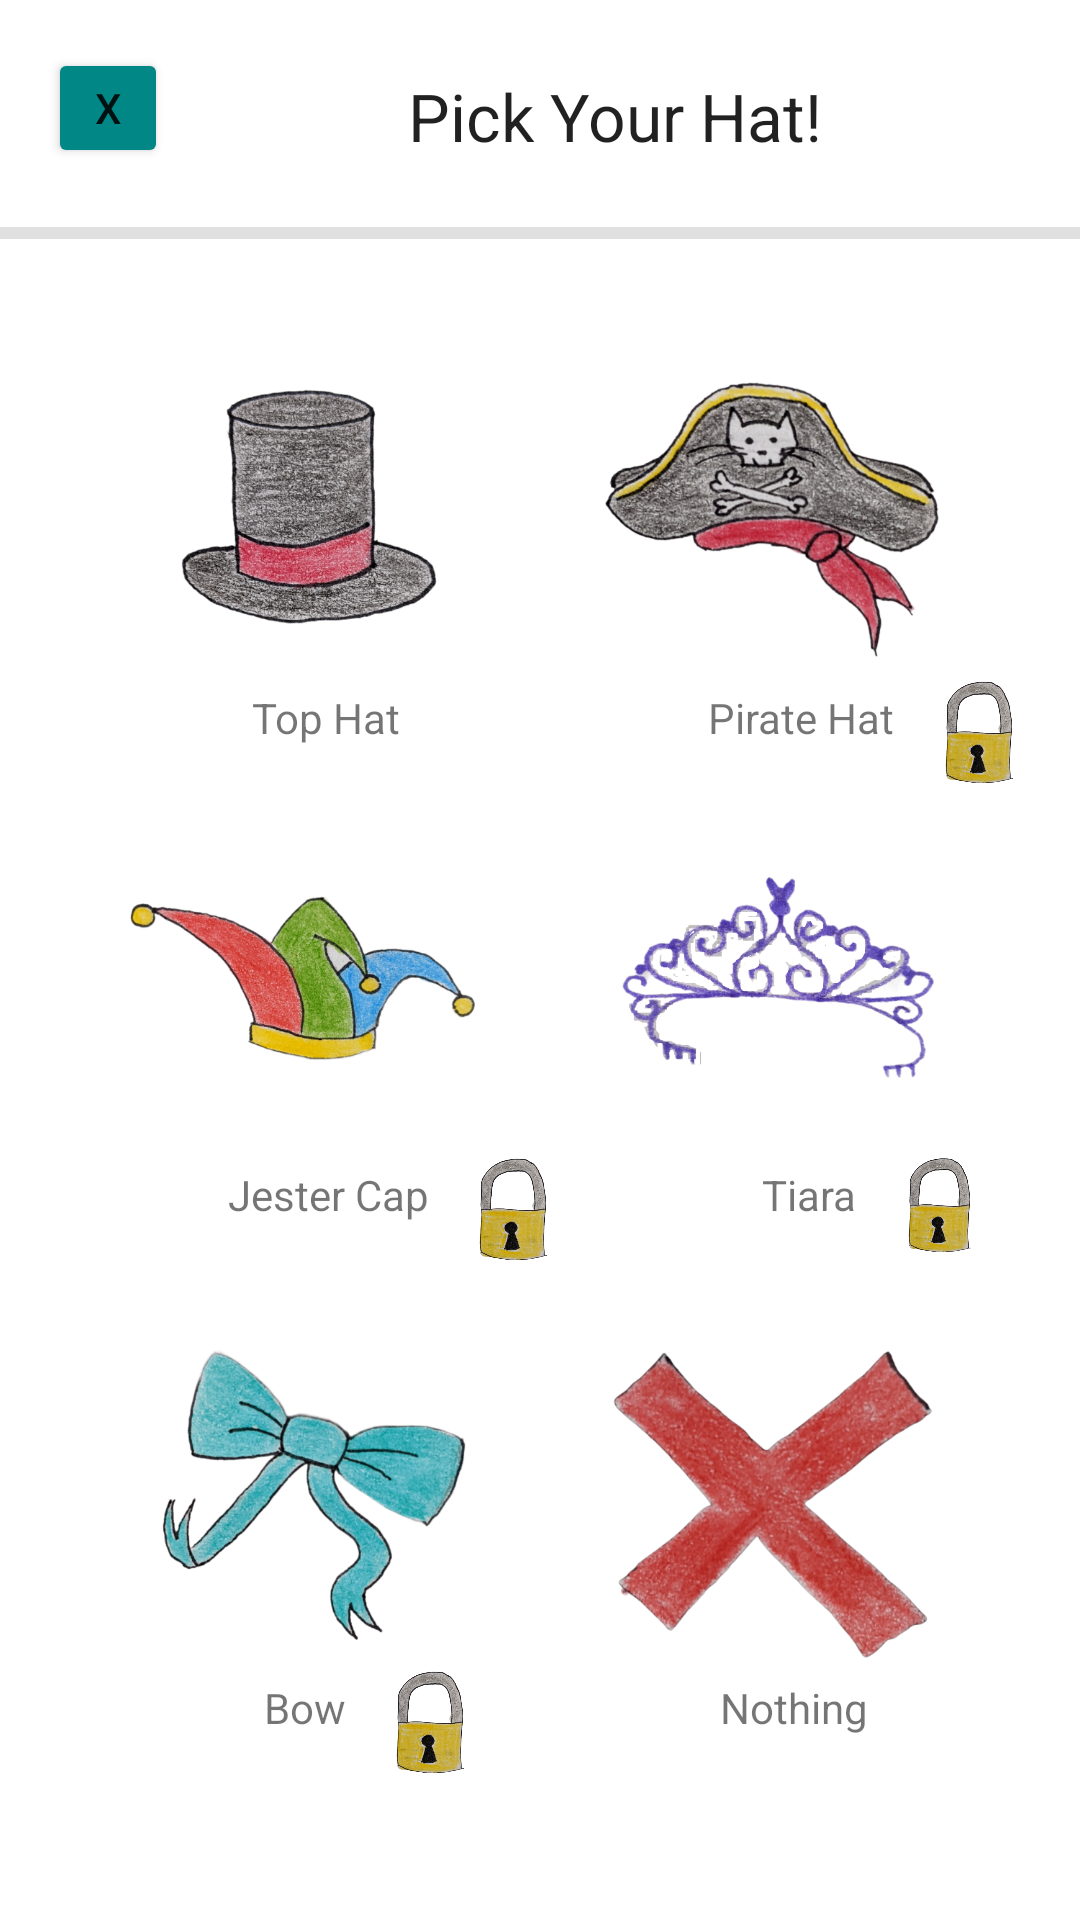

Point at icon controls on the screen. Image size 1080 x 1920, points as (x,y).
lock: (979,732), (939,1205), (513,1209), (430,1722)
